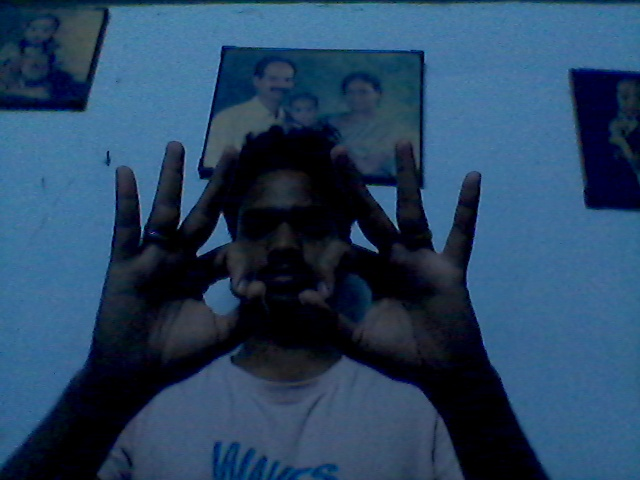How are you: (87, 139, 484, 384)
